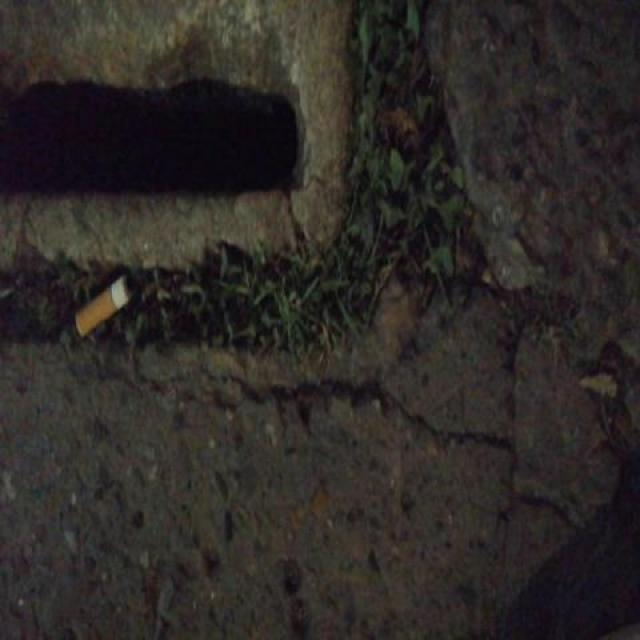non-organic waste: (73, 268, 135, 341)
